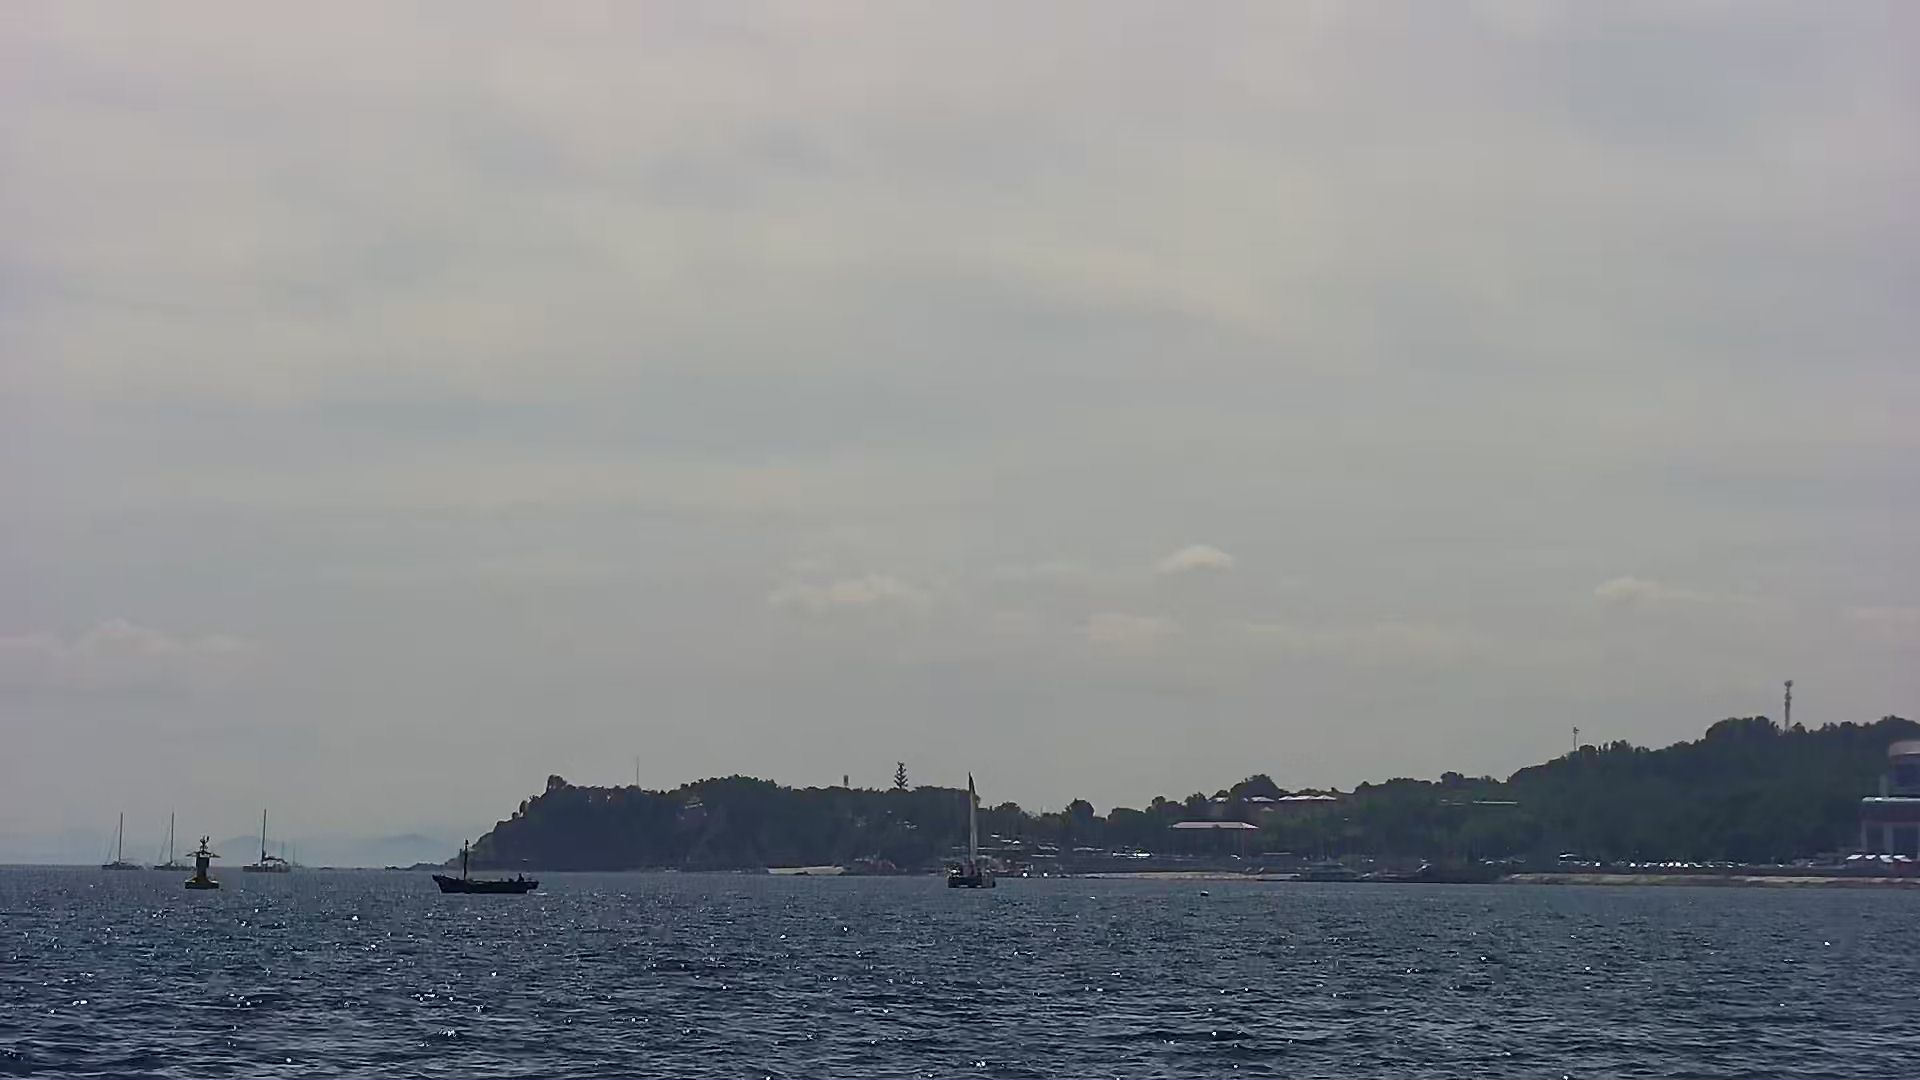boat: (241, 808, 294, 874), (431, 872, 543, 897), (99, 814, 144, 872), (154, 812, 194, 874)
buoy: (185, 833, 218, 890)
